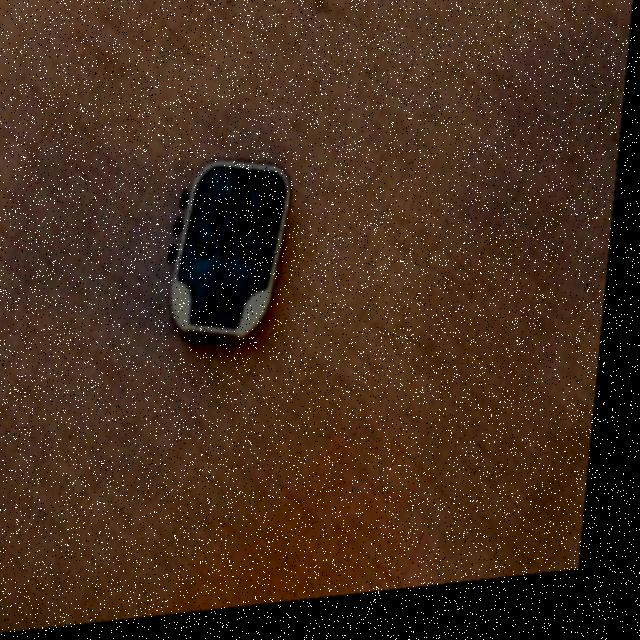adapter: (166, 154, 298, 353)
